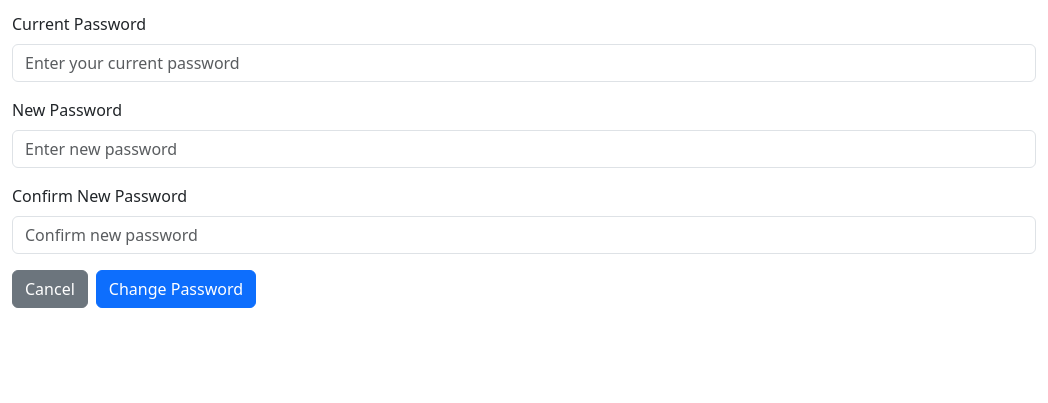
it: ChangePassword › validation errors › displays error when new password and confirm password do not match
Type "password123" into the password field labelled "Current Password" at (524, 63), box [12,44,1036,82]
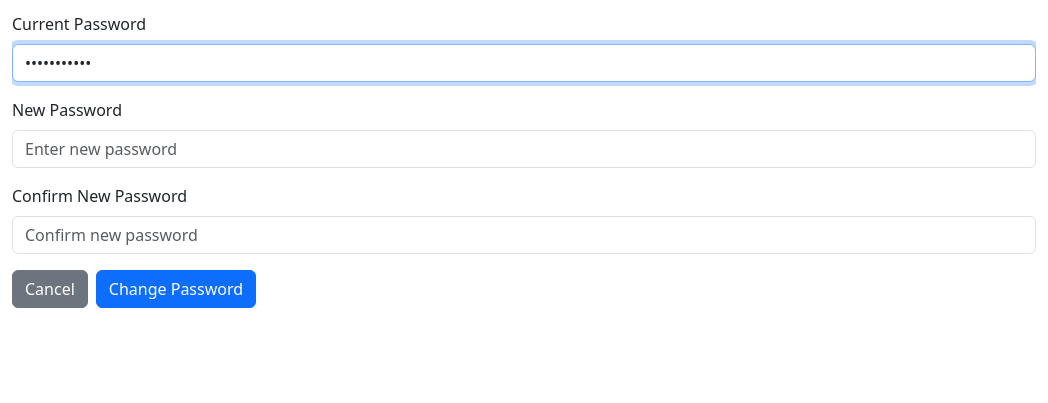
Type "newpassword123" into the password field labelled "New Password" at (524, 149), box [12,130,1036,168]
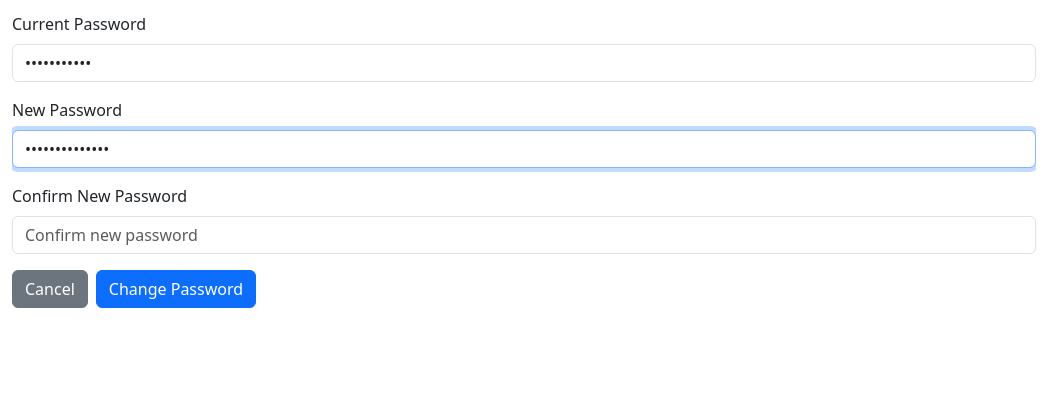
Type "differentpassword123" into the password field labelled "Confirm New Password" at (524, 235), box [12,216,1036,254]
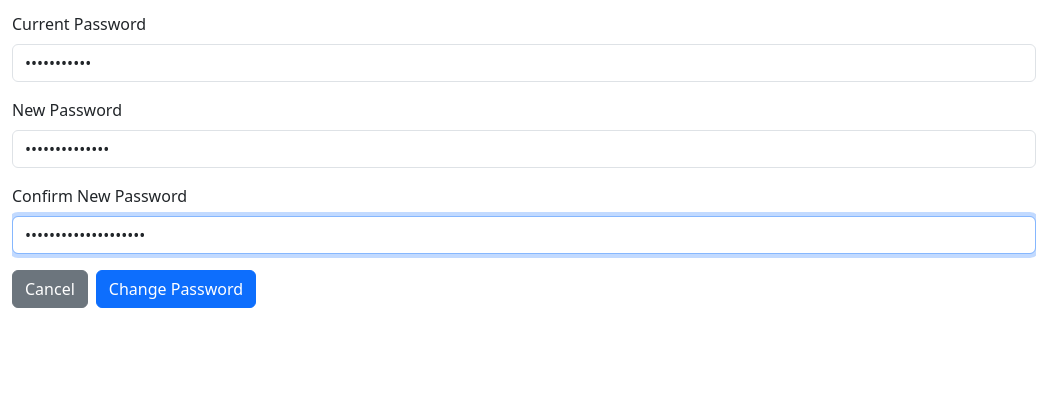
Click the button "Change Password" at (176, 289), box [96,270,256,308]
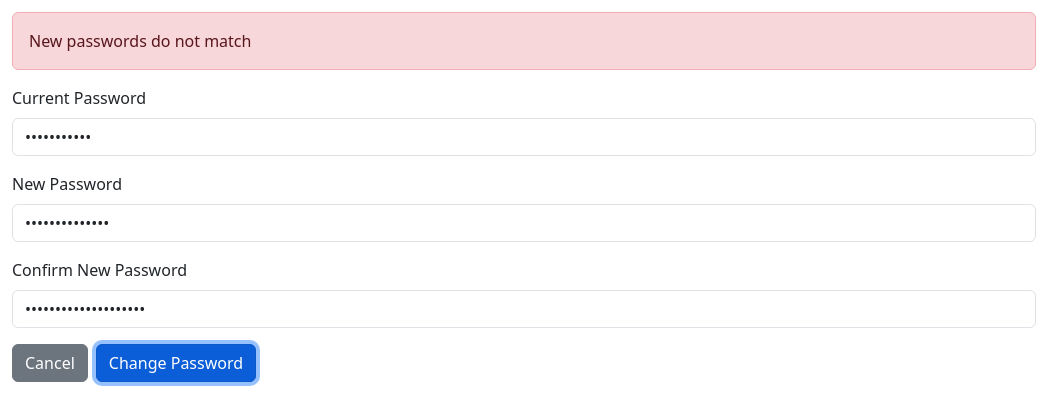
Now the text "New passwords do not match" is shown, box [12,12,1036,70]
